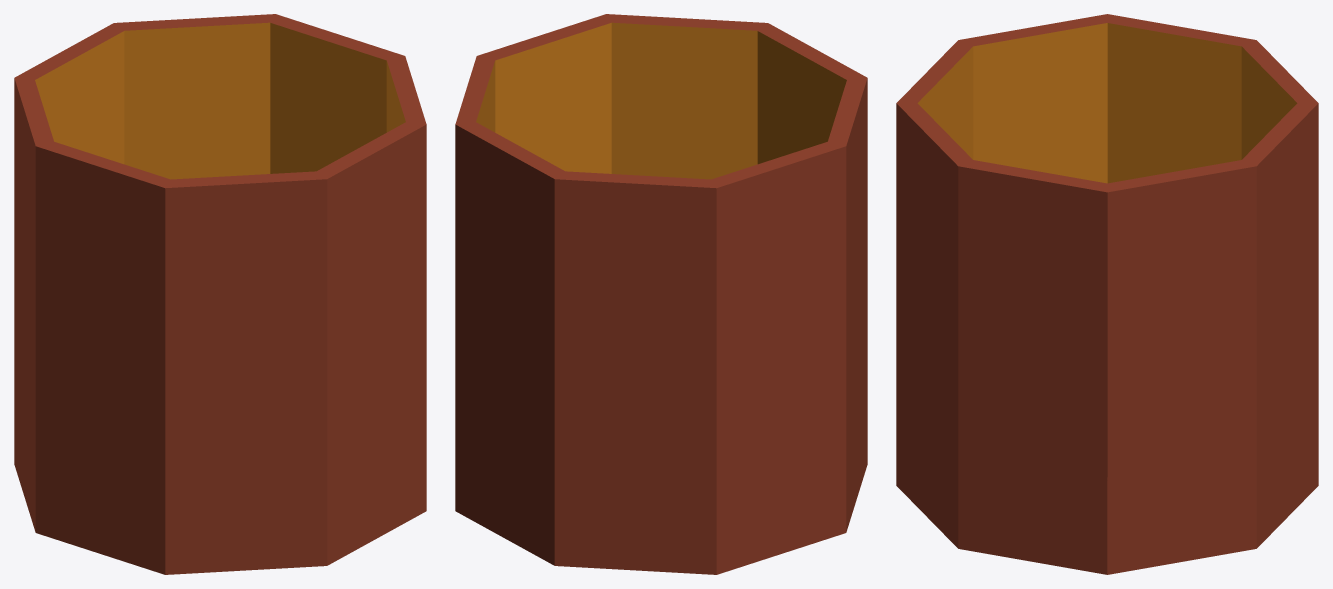
The model's file is Cup.fbx.
The picture shows the model from 3 angles, left to right: view 1: azimuth 30°, elevation 25°; view 2: azimuth 150°, elevation 25°; view 3: azimuth 270°, elevation 25°; orthographic projection.
Parts seen in each view (by area): view 1: Cup; view 2: Cup; view 3: Cup.
Part boxes in pixels (x1=…): Cup: x1=14, y1=14, x2=426, y2=574; Cup: x1=455, y1=14, x2=867, y2=574; Cup: x1=896, y1=14, x2=1318, y2=574.
Size of the model in its own units: 280 by 280 by 280.
